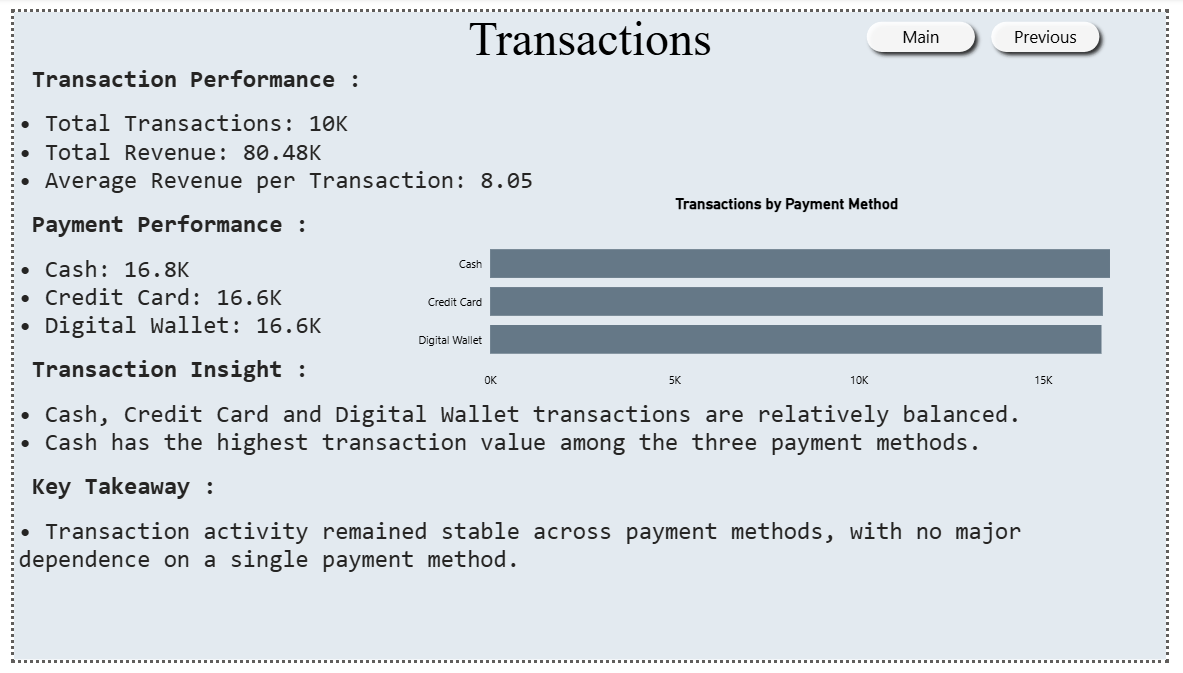

The page's visual inventory and layout, read from the dashboard file:
{"tool":"powerbi","page":{"name":"Transactions","canvas":[1280,720],"ordinal":4},"visuals":[{"type":"textbox","title":"Transactions","box":[0,0,1280,280],"z":0},{"type":"textbox","box":[0,54,1280,666],"z":1},{"type":"clusteredBarChart","title":"Transactions by Payment Method","fields":{"Category":["cleaned_cafe_sales.Payment_Method"],"Y":["Sum(cleaned_cafe_sales.Total_spent_calculated)"]},"box":[436,204,844,224],"z":2},{"type":"actionButton","box":[938,2,138.3,51.7],"z":3},{"type":"actionButton","box":[1076,2,138.3,51.7],"z":4}]}

Visuals, with their boxes in screenshot pixels (x1, y1, x2, y2), scaled from the page's 1280x720 canvas onto the 1183x673 screenshot:
"Transactions" textbox: <bbox>0, 0, 1182, 262</bbox>
textbox: <bbox>0, 50, 1182, 672</bbox>
"Transactions by Payment Method" clusteredBarChart: <bbox>403, 191, 1182, 400</bbox>
actionButton: <bbox>867, 2, 995, 50</bbox>
actionButton: <bbox>994, 2, 1122, 50</bbox>
